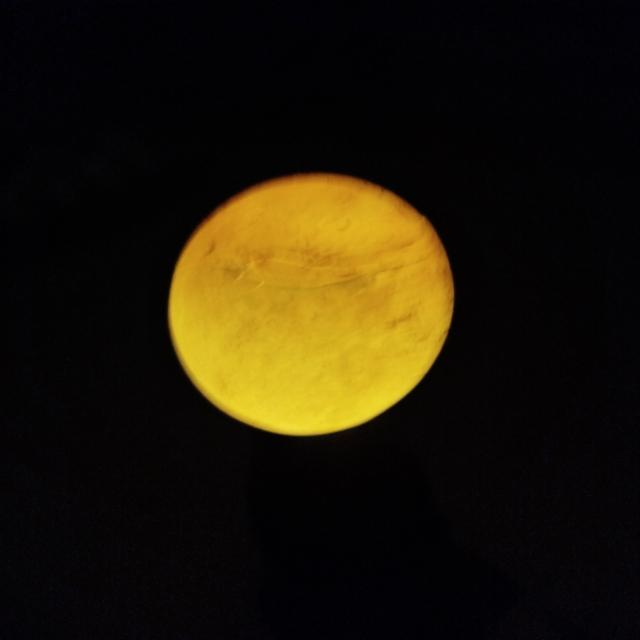Rachadura: (229, 216, 442, 292)
